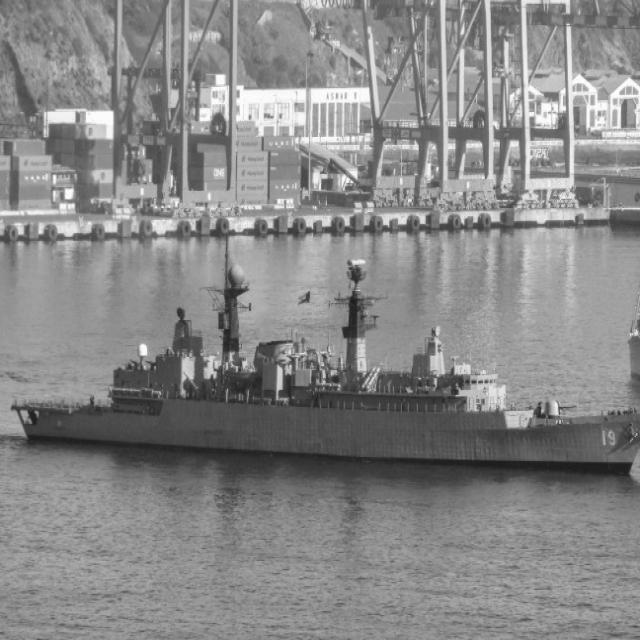Fragata: (4, 246, 640, 479)
